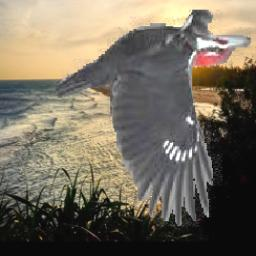Woodpecker: (49, 11, 252, 228)
